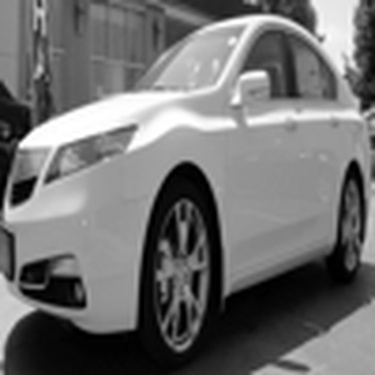car: (2, 1, 370, 372), (1, 66, 36, 170), (351, 90, 372, 157)
